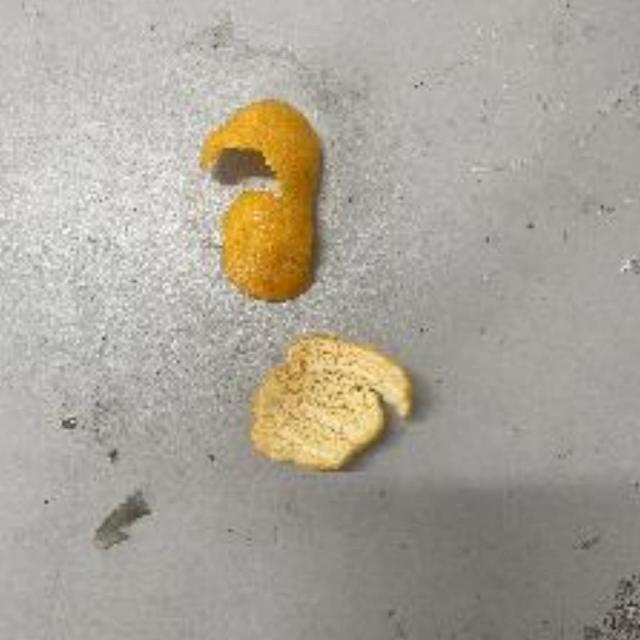orange-peel: (196, 95, 325, 303)
